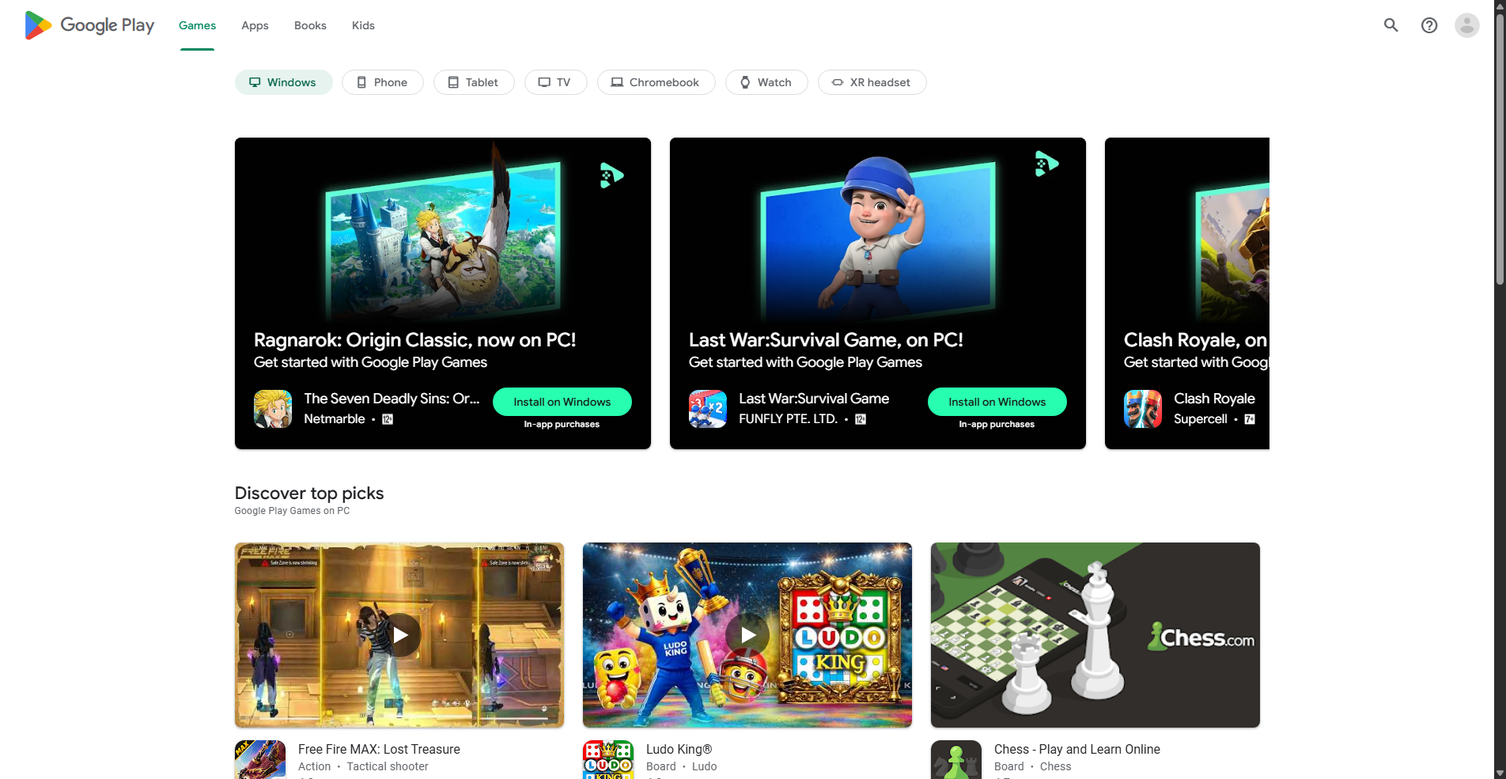button: (492, 387, 632, 416), (927, 387, 1067, 416), (1362, 387, 1502, 416), (371, 606, 428, 663), (719, 606, 776, 663), (1415, 606, 1472, 663), (166, 0, 228, 51), (281, 0, 339, 51), (228, 0, 281, 51), (339, 0, 387, 51), (1372, 6, 1410, 44), (1410, 6, 1448, 44), (1448, 6, 1486, 44)
link: (235, 138, 651, 449), (670, 138, 1086, 449), (1105, 138, 1506, 449), (235, 542, 564, 779), (583, 542, 912, 779), (931, 542, 1260, 779), (1279, 542, 1506, 779), (254, 389, 492, 429), (689, 389, 927, 429), (1124, 389, 1362, 429), (22, 0, 155, 51), (597, 70, 716, 95), (818, 70, 927, 95), (235, 70, 332, 95), (725, 70, 808, 95), (342, 70, 424, 95), (434, 70, 515, 95), (525, 70, 588, 95)
